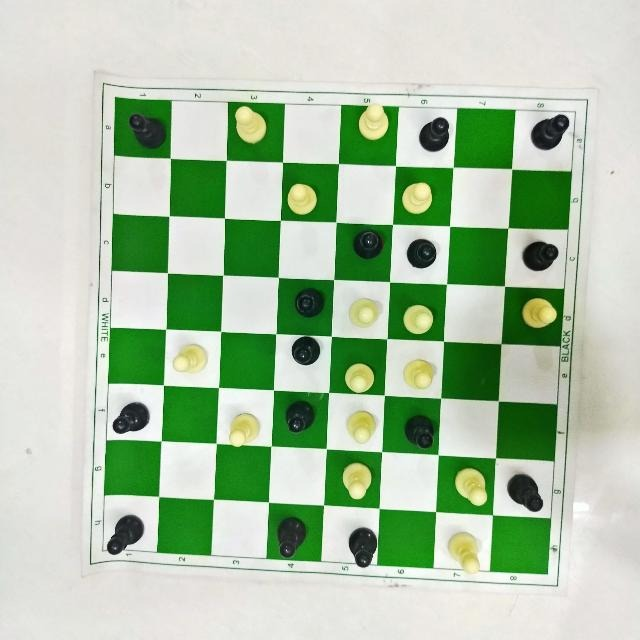black-pawn: (524, 108, 578, 154), (340, 520, 384, 575), (103, 511, 151, 559), (122, 107, 171, 154), (108, 395, 156, 440), (279, 394, 322, 442), (506, 467, 545, 519), (399, 408, 441, 455), (350, 220, 388, 268), (518, 238, 566, 276), (273, 513, 310, 562), (415, 113, 456, 156), (402, 236, 446, 275), (291, 283, 329, 323), (287, 332, 324, 369)
white-pawn: (444, 524, 484, 581), (519, 292, 567, 339), (352, 98, 397, 147), (220, 404, 268, 449), (231, 100, 273, 151), (398, 352, 442, 397), (339, 406, 386, 448), (393, 174, 437, 218), (168, 336, 212, 380), (341, 288, 383, 334), (282, 178, 326, 220), (338, 357, 380, 401), (336, 461, 378, 505), (399, 296, 440, 340), (451, 463, 490, 508)
